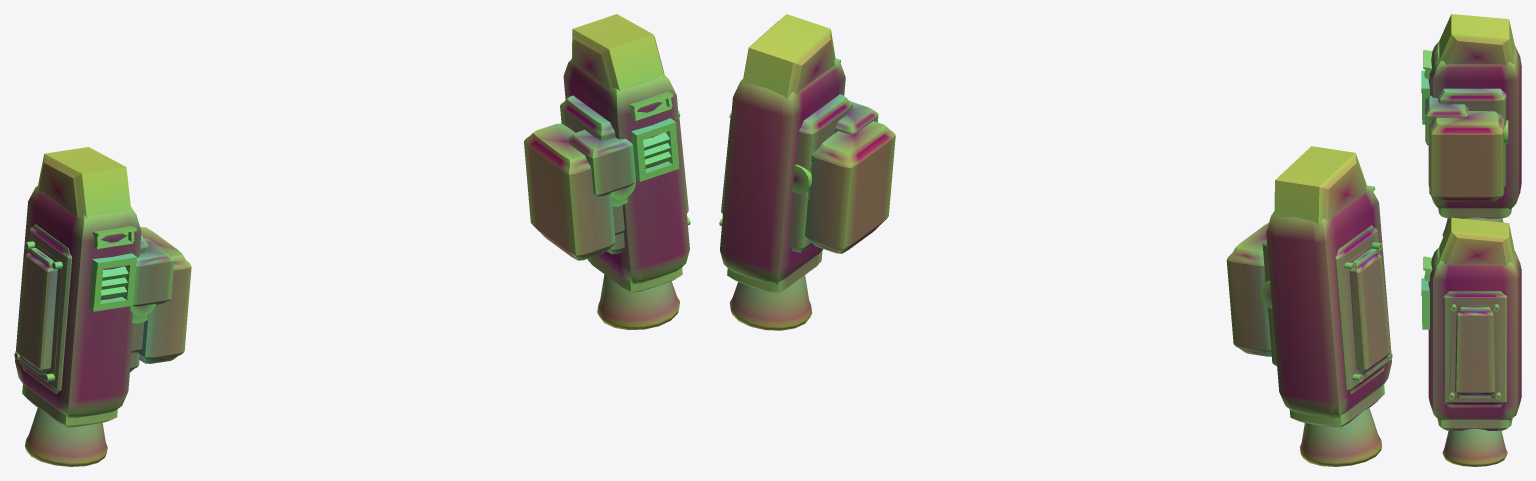
File: llm_gen_leg_thrusters_073_8f06c7.glb
3 renders of one model, left to right at view 1: azimuth 30°, elevation 25°; view 2: azimuth 150°, elevation 25°; view 3: azimuth 270°, elevation 25°, orthographic. The views are drawn at different scales.
Parts seen in each view (by area): view 1: calf_thruster_hull_1_gold_l, calf_thruster_hull_1_gold_r, adapter_calf_clamp_r, nacelle_upper_cowl_2_crimson_gloss_r, nacelle_upper_cowl_2_crimson_gloss_l, nacelle_flank_armor_6_crimson_gloss_l, adapter_calf_clamp_l, calf_main_bell_8_vernier_bell_vernier_l, calf_main_bell_8_vernier_bell_vernier_r, adapter_leg_knee_mount_dark_9_adapter_dark_r, adapter_sub_flank_frame_dark_5_adapter_dark_l, adapter_leg_knee_mount_dark_9_adapter_dark_l (+7 smaller); view 2: calf_thruster_hull_1_gold_l, calf_thruster_hull_1_gold_r, adapter_calf_clamp_r, nacelle_upper_cowl_2_crimson_gloss_r, nacelle_upper_cowl_2_crimson_gloss_l, nacelle_flank_armor_6_crimson_gloss_l, adapter_calf_clamp_l, calf_main_bell_8_vernier_bell_vernier_l, calf_main_bell_8_vernier_bell_vernier_r, adapter_sub_tank_cradle_dark_0_adapter_dark_r, adapter_sub_flank_frame_dark_5_adapter_dark_l, adapter_sub_nozzle_shroud_dark_7_adapter_dark_l (+2 smaller); view 3: calf_thruster_hull_1_gold_r, adapter_calf_clamp_l, calf_thruster_hull_1_gold_l, nacelle_flank_armor_6_crimson_gloss_r, nacelle_upper_cowl_2_crimson_gloss_l, nacelle_upper_cowl_2_crimson_gloss_r, adapter_sub_flank_frame_dark_5_adapter_dark_r, calf_main_bell_8_vernier_bell_vernier_r, adapter_sub_tank_cradle_dark_0_adapter_dark_l, adapter_leg_knee_mount_dark_9_adapter_dark_l, adapter_sub_nozzle_shroud_dark_7_adapter_dark_r, adapter_sub_nozzle_shroud_dark_7_adapter_dark_l (+5 smaller).
Boxes of the visible parts, x1,y1,x2,y2 form: calf_thruster_hull_1_gold_l: [15, 185, 141, 417]; calf_thruster_hull_1_gold_r: [563, 58, 689, 283]; adapter_calf_clamp_r: [524, 123, 627, 260]; nacelle_upper_cowl_2_crimson_gloss_r: [571, 14, 664, 91]; nacelle_upper_cowl_2_crimson_gloss_l: [38, 147, 131, 218]; nacelle_flank_armor_6_crimson_gloss_l: [14, 241, 62, 381]; adapter_calf_clamp_l: [131, 227, 191, 363]; calf_main_bell_8_vernier_bell_vernier_l: [25, 407, 107, 466]; calf_main_bell_8_vernier_bell_vernier_r: [597, 274, 679, 329]; adapter_leg_knee_mount_dark_9_adapter_dark_r: [567, 130, 635, 196]; adapter_sub_flank_frame_dark_5_adapter_dark_l: [18, 224, 72, 394]; adapter_leg_knee_mount_dark_9_adapter_dark_l: [132, 238, 174, 306]; calf_thruster_hull_1_gold_l: [1266, 184, 1391, 417]; calf_thruster_hull_1_gold_r: [720, 59, 845, 284]; adapter_calf_clamp_r: [805, 121, 895, 253]; nacelle_upper_cowl_2_crimson_gloss_r: [742, 14, 835, 99]; nacelle_upper_cowl_2_crimson_gloss_l: [1274, 146, 1366, 226]; nacelle_flank_armor_6_crimson_gloss_l: [1344, 242, 1392, 381]; adapter_calf_clamp_l: [1226, 222, 1271, 356]; calf_main_bell_8_vernier_bell_vernier_l: [1299, 408, 1382, 466]; calf_main_bell_8_vernier_bell_vernier_r: [729, 275, 812, 330]; adapter_sub_tank_cradle_dark_0_adapter_dark_r: [789, 94, 852, 252]; adapter_sub_flank_frame_dark_5_adapter_dark_l: [1335, 225, 1388, 394]; adapter_sub_nozzle_shroud_dark_7_adapter_dark_l: [1289, 384, 1384, 427]; calf_thruster_hull_1_gold_r: [1428, 247, 1521, 420]; adapter_calf_clamp_l: [1429, 111, 1504, 201]; calf_thruster_hull_1_gold_l: [1428, 42, 1521, 209]; nacelle_flank_armor_6_crimson_gloss_r: [1449, 304, 1501, 399]; nacelle_upper_cowl_2_crimson_gloss_l: [1439, 14, 1514, 65]; nacelle_upper_cowl_2_crimson_gloss_r: [1438, 217, 1514, 265]; adapter_sub_flank_frame_dark_5_adapter_dark_r: [1443, 291, 1506, 407]; calf_main_bell_8_vernier_bell_vernier_r: [1442, 428, 1507, 466]; adapter_sub_tank_cradle_dark_0_adapter_dark_l: [1438, 88, 1506, 186]; adapter_leg_knee_mount_dark_9_adapter_dark_l: [1425, 95, 1468, 145]; adapter_sub_nozzle_shroud_dark_7_adapter_dark_r: [1437, 419, 1512, 430]; adapter_sub_nozzle_shroud_dark_7_adapter_dark_l: [1438, 208, 1511, 218].
Bounding box in the file's own units: 85.78 × 36.81 × 14.73.
